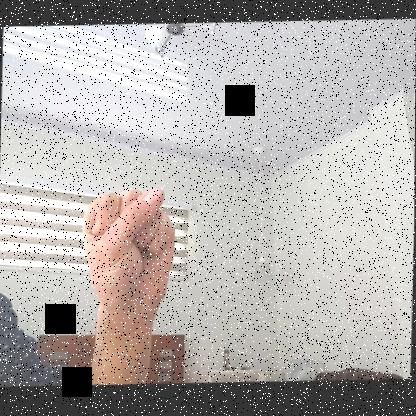S: (80, 183, 179, 307)
